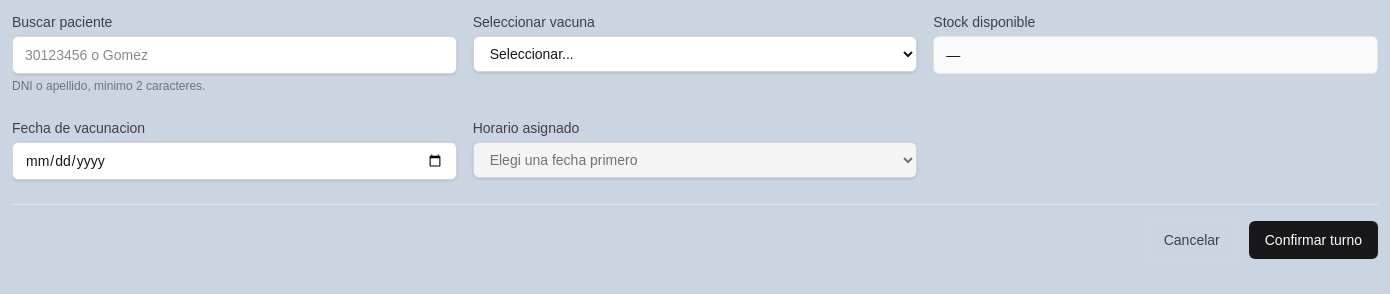
Test: SIG-MEJ-04.1/04.3: disponibilidad del formulario › distingue un error de consulta y permite recuperarse con otra fecha
Type "2040-10-16" into the date field labelled "Fecha de vacunacion" at coordinates (234, 161), box [12, 142, 457, 180]
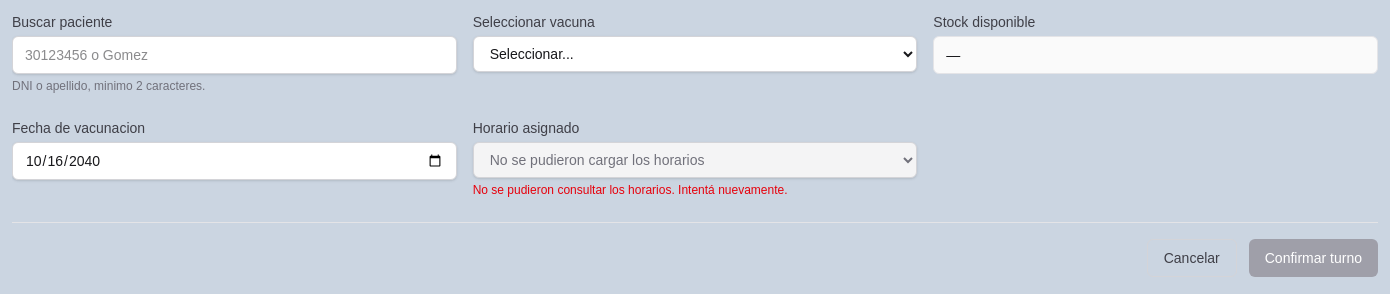
Check: the message reads "No se pudieron consultar los horarios. Intentá nuevamente.", box [473, 183, 788, 197]
Check: the button "Confirmar turno" is disabled, box [1249, 239, 1378, 277]
Submit the form named "Horario asignado"
Type "2040-10-17" into the date field labelled "Fecha de vacunacion" at coordinates (234, 161), box [12, 142, 457, 180]
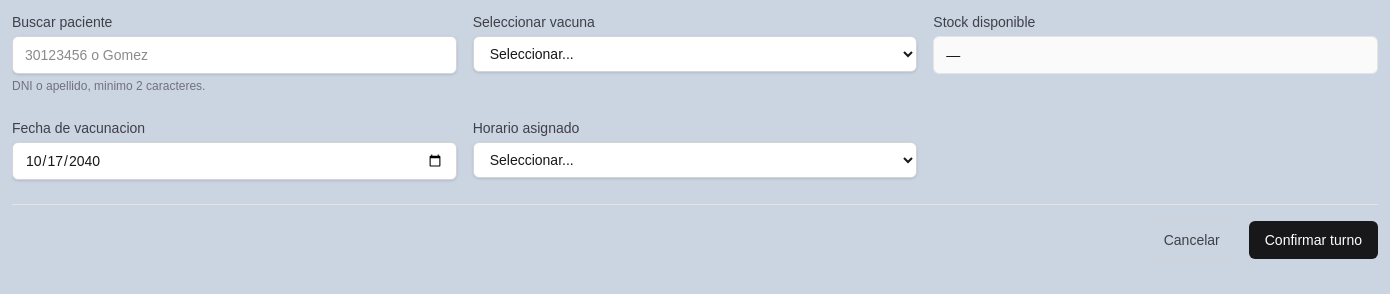
Check: the text "No se pudieron consultar los horarios. Intentá nuevamente." is gone
Check: the button "Confirmar turno" is enabled, box [1249, 221, 1378, 259]
